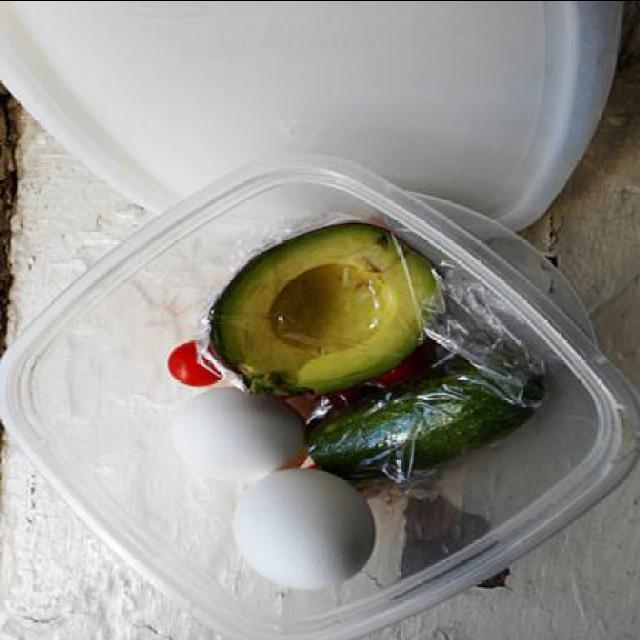Cucumber: (306, 357, 544, 489)
